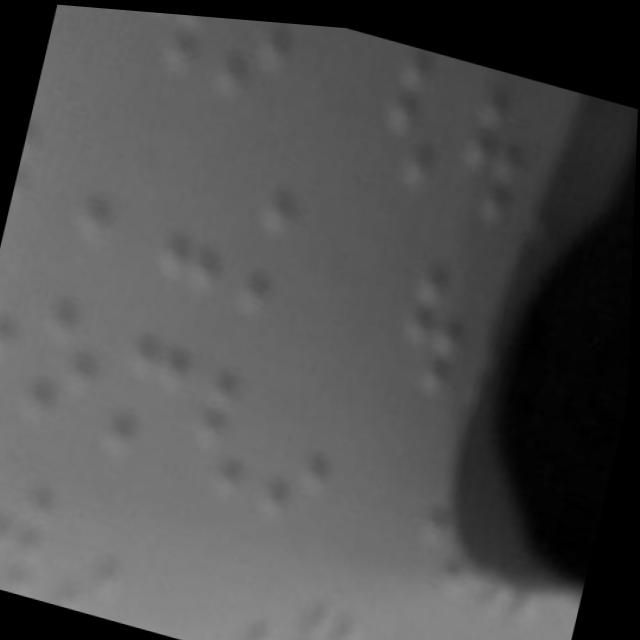braiile: (15, 280, 124, 447), (447, 69, 547, 234), (237, 180, 345, 330), (256, 382, 356, 543), (371, 39, 470, 200), (187, 353, 282, 513), (101, 320, 198, 475), (391, 248, 489, 401), (75, 115, 172, 266), (151, 158, 248, 307)
